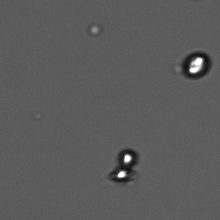Living Cell: (177, 49, 215, 83), (104, 163, 138, 184), (114, 144, 140, 168)
